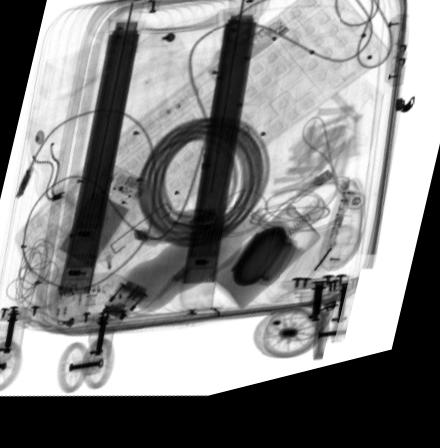Powerbank: (53, 168, 151, 278)
